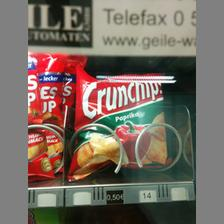Chips: (73, 66, 173, 174)
